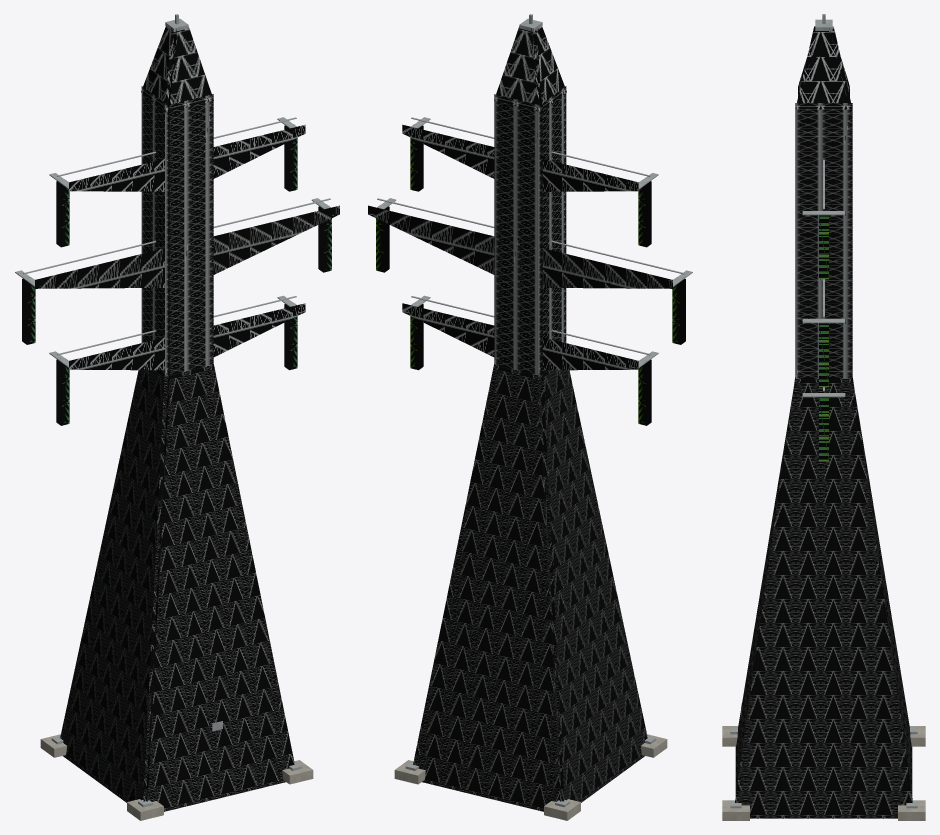
Rendered from pylon.glb.
3 renders of one model, left to right at view 1: azimuth 30°, elevation 25°; view 2: azimuth 150°, elevation 25°; view 3: azimuth 270°, elevation 25°, orthographic.
Visible parts, largest first — view 1: pylon; view 2: pylon; view 3: pylon.
Part boxes in pixels (x1,y1,x2,y2): pylon: (15, 14, 339, 820); pylon: (368, 14, 692, 820); pylon: (722, 14, 925, 820).
Size of the model in its own units: 14.4 by 33.69 by 8.1.
10 materials, 10 textured.
